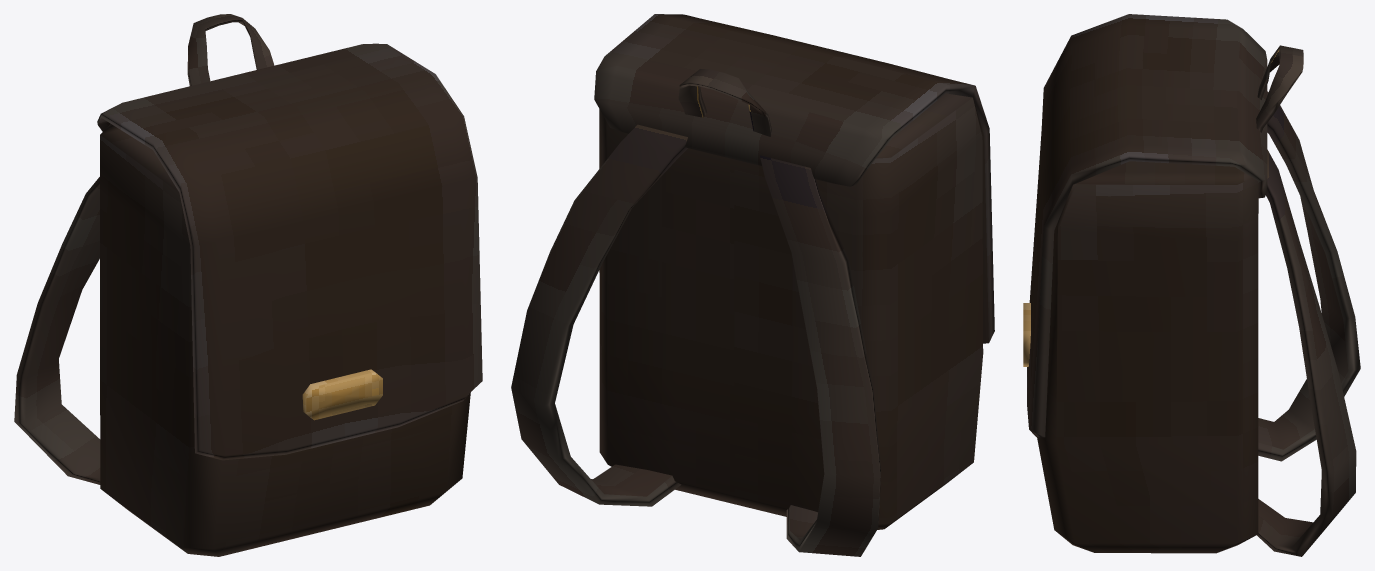
File: a_sch_entrance01_obj_leather_bag01.gltf
3 views of the same model, side by side, from view 1: azimuth 30°, elevation 25°; view 2: azimuth 150°, elevation 25°; view 3: azimuth 270°, elevation 25° (orthographic). The views are drawn at different scales.
Visible parts, largest first — view 1: a_sch_entrance01_obj_leather_bag01_mesh_shape:a_sch_class1a_; view 2: a_sch_entrance01_obj_leather_bag01_mesh_shape:a_sch_class1a_; view 3: a_sch_entrance01_obj_leather_bag01_mesh_shape:a_sch_class1a_.
Boxes of the visible parts, left/top/right/bottom form: a_sch_entrance01_obj_leather_bag01_mesh_shape:a_sch_class1a_: left=14, top=14, right=482, bottom=556; a_sch_entrance01_obj_leather_bag01_mesh_shape:a_sch_class1a_: left=511, top=14, right=994, bottom=556; a_sch_entrance01_obj_leather_bag01_mesh_shape:a_sch_class1a_: left=1023, top=14, right=1360, bottom=556.
Bounding box in the file's own units: 0.3043 × 0.3556 × 0.2463.
Materials: 1 (1 with a texture image).
